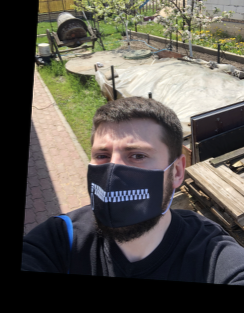with_mask: (84, 133, 164, 243)
